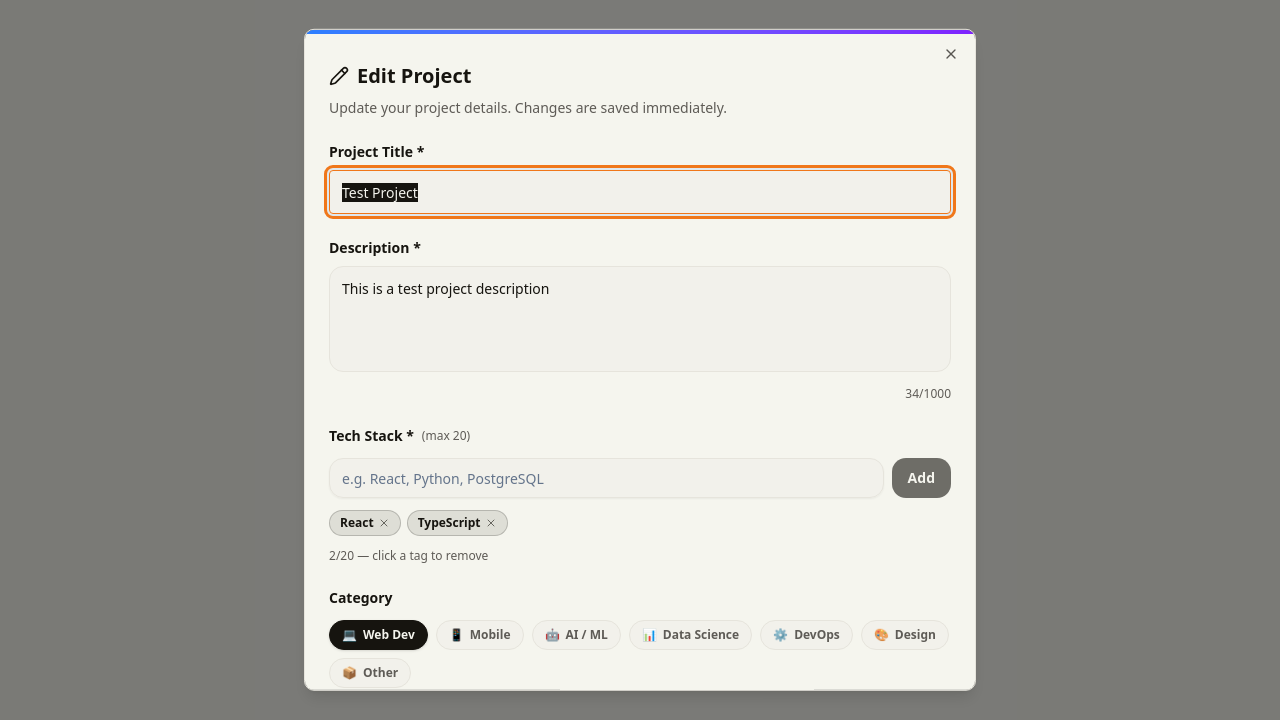
it: EditProjectModal - Tech Stack › adds a new tech tag when Add button is clicked
This screenshot has width=1280, height=720.
Type "Node.js" into the field with placeholder "e.g. React, Python, PostgreSQL".
click(606, 478); type("Node.js")  # box [329,458,884,498]
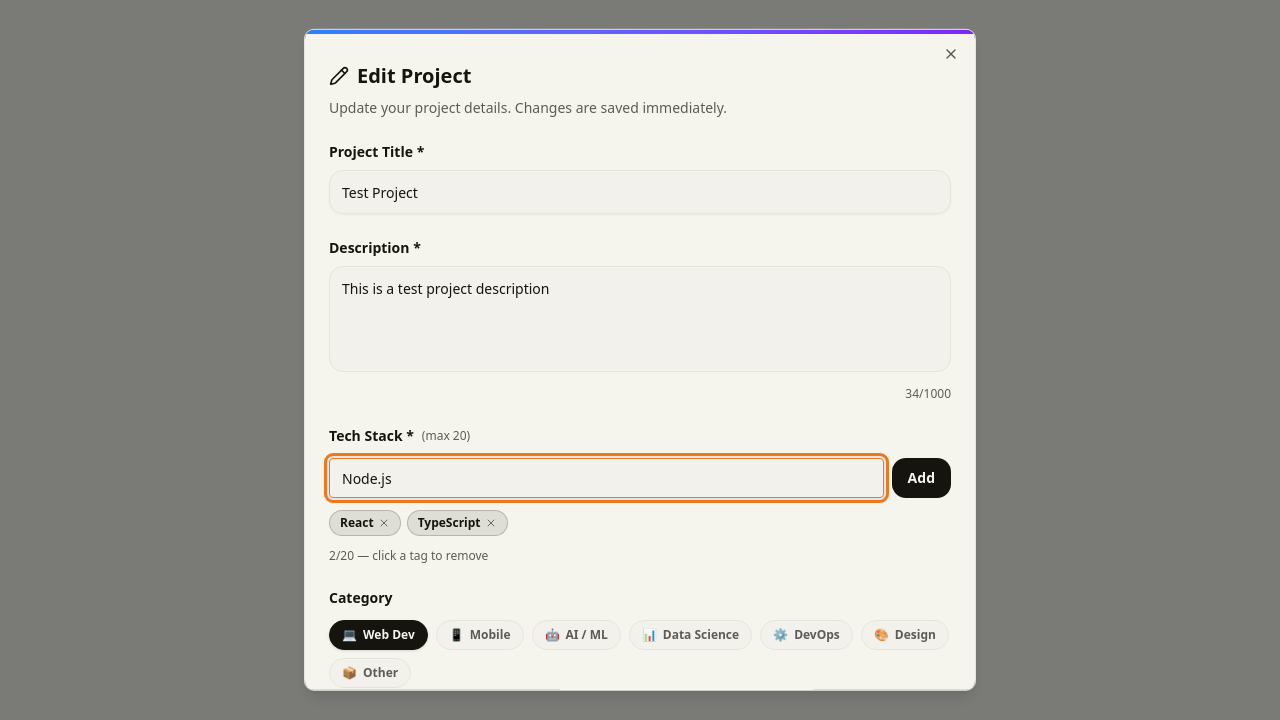
Click the button "Add".
click(921, 478)  # box [892,458,951,498]
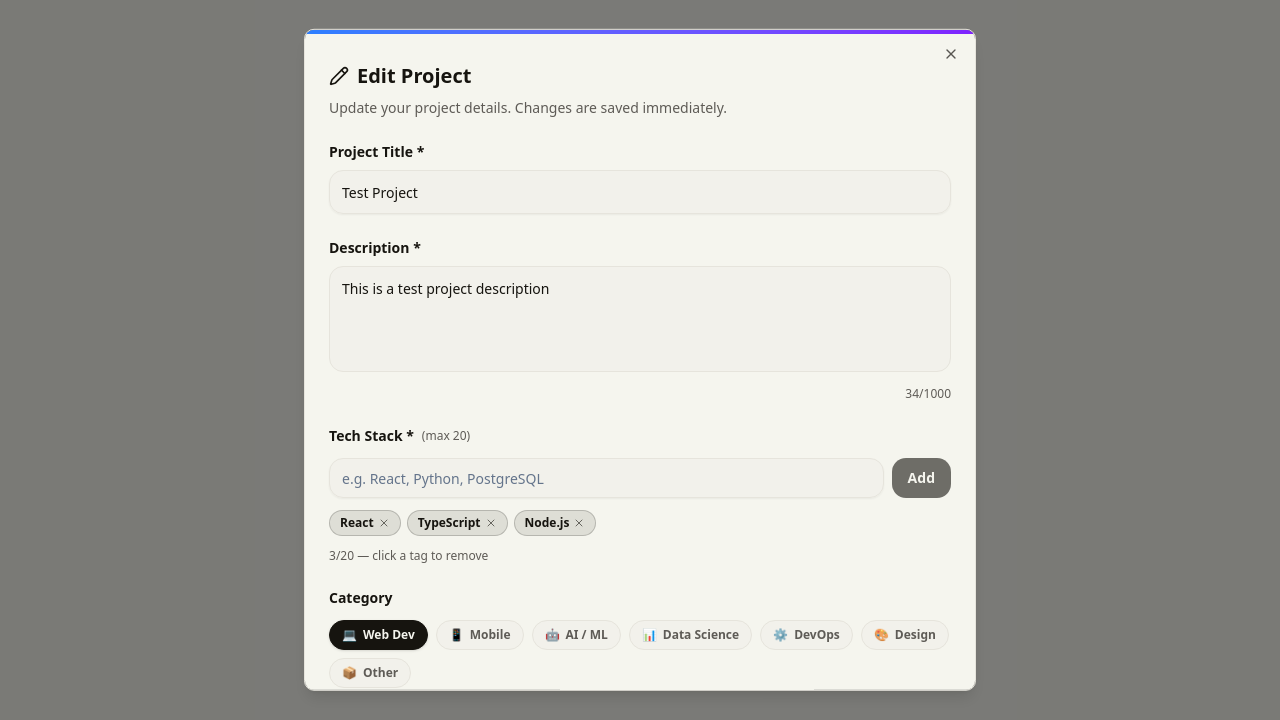
Now the text "Node.js" is shown, box [514,510,596,536]
